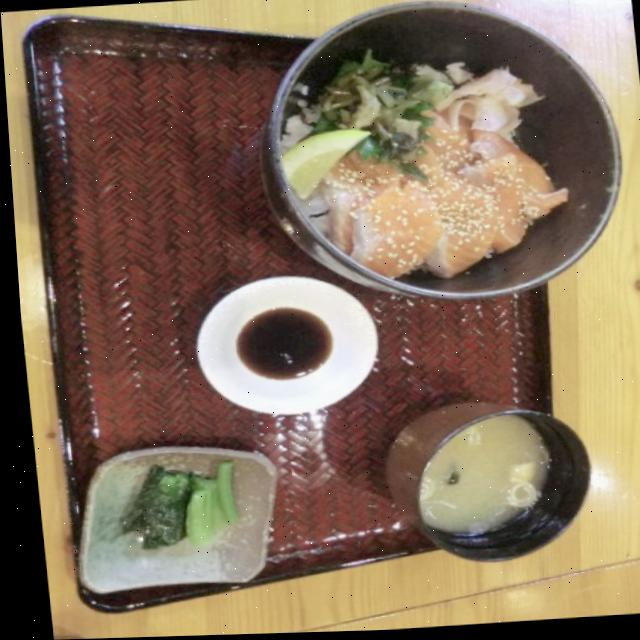刺身生食: (200, 0, 640, 360)
汤锅炖物: (355, 400, 607, 597)
